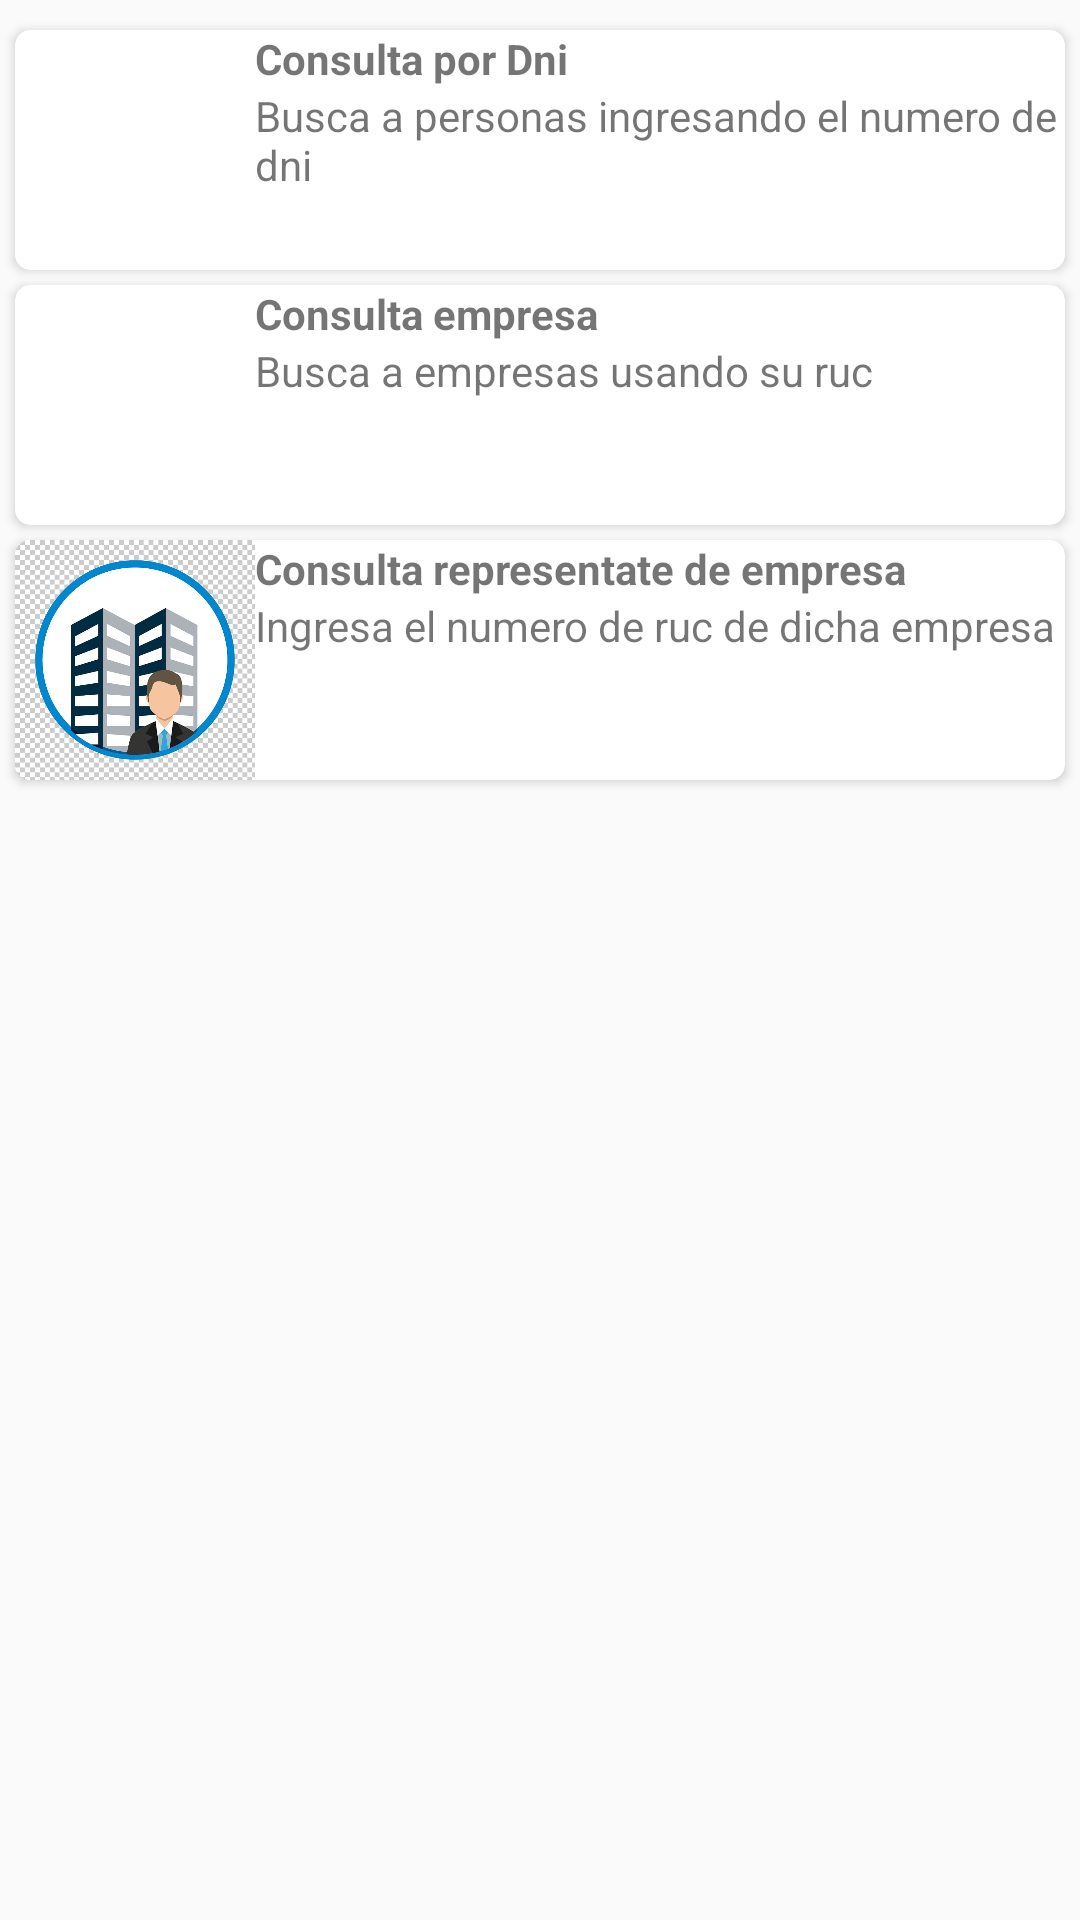

Screen size 1080px x 1920px. Icon name, then its center in pixels as (x,y):
represenate: (135,660)
